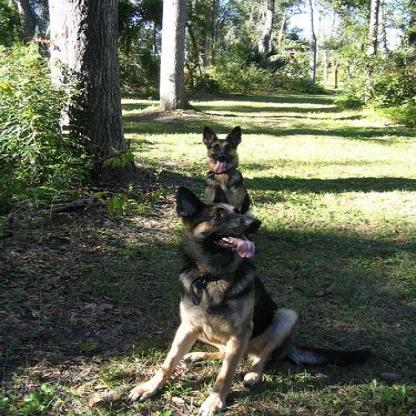German_shepherd: (122, 184, 376, 414), (194, 111, 261, 208)
